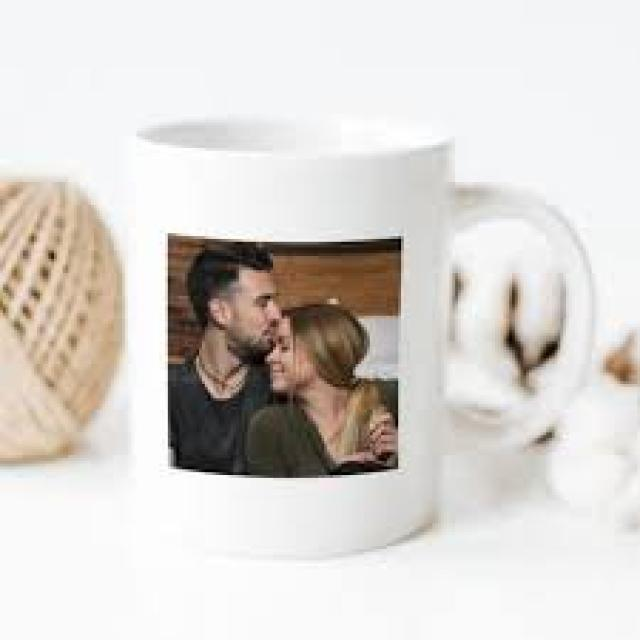taza: (132, 112, 596, 564)
